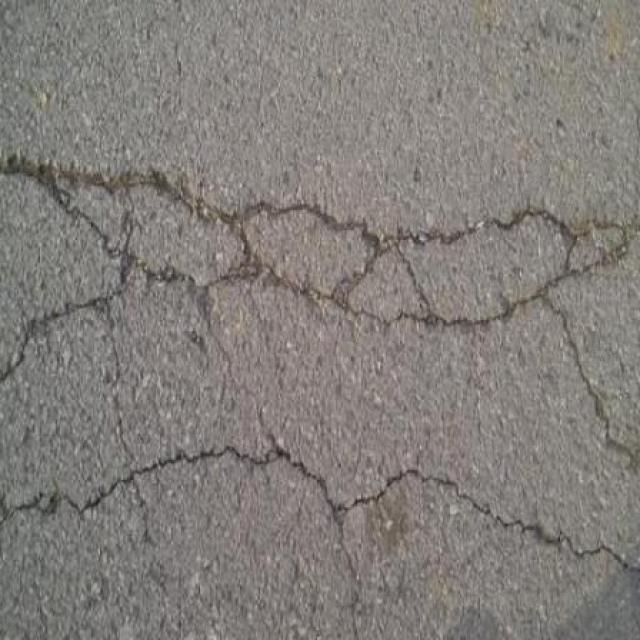Crack: (0, 156, 631, 332), (0, 254, 319, 549), (281, 449, 640, 639), (398, 208, 632, 361), (101, 236, 218, 299), (581, 362, 638, 473)
